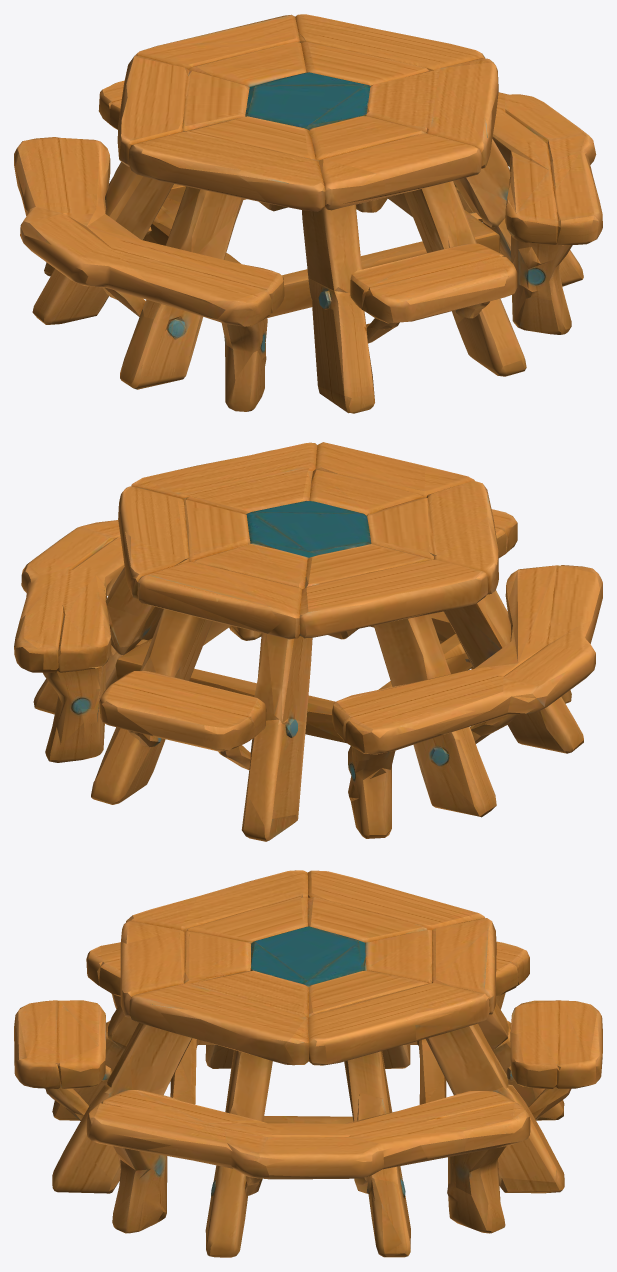
The model's file is model-village-expansion-picnicTable-a54ab901cf09.glb.
3 renders of one model, top to bottom at view 1: azimuth 30°, elevation 25°; view 2: azimuth 150°, elevation 25°; view 3: azimuth 270°, elevation 25°, orthographic.
Parts seen in each view (by area): view 1: Mesh_0; view 2: Mesh_0; view 3: Mesh_0.
Boxes of the visible parts, x1,y1,x2,y2 form: Mesh_0: (14, 14, 602, 413); Mesh_0: (14, 442, 602, 841); Mesh_0: (14, 870, 602, 1257).
Size of the model in its own units: 0.8027 by 0.2986 by 0.8.
1 material, 1 textured.
